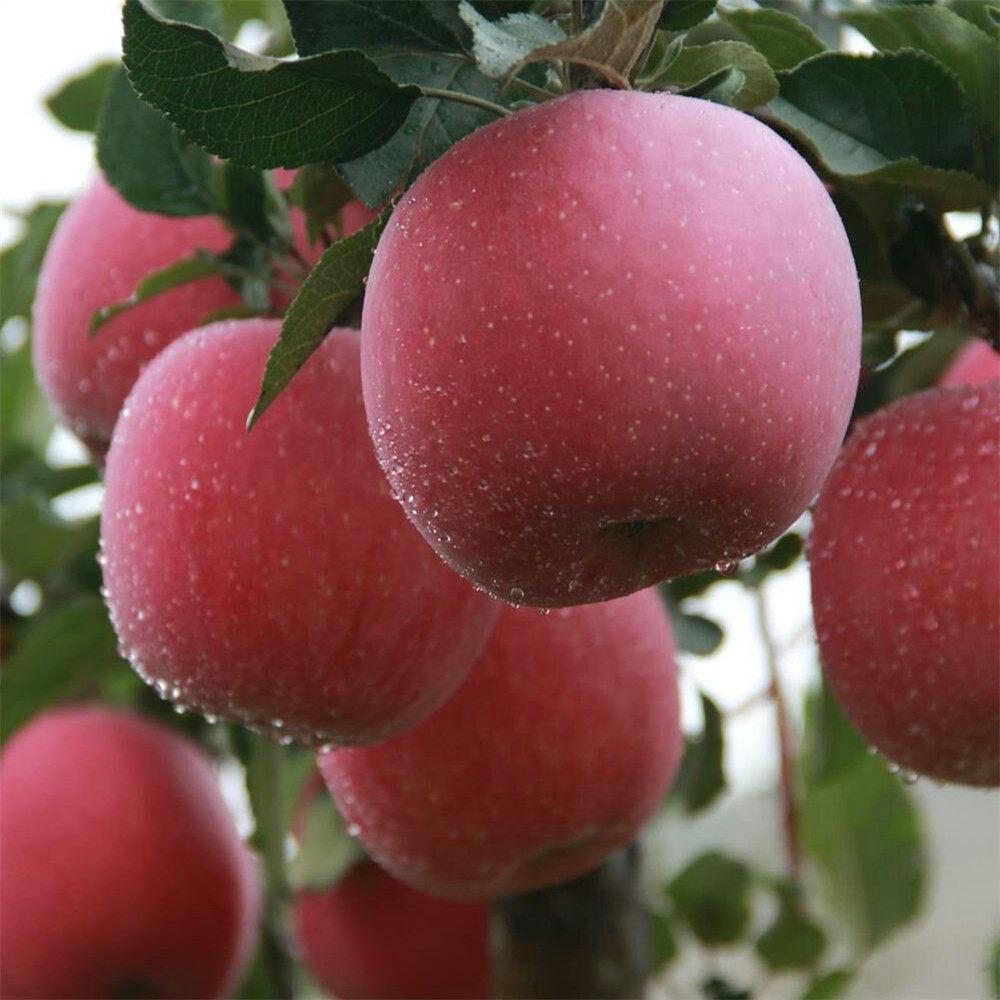apple: (361, 92, 863, 602), (89, 319, 507, 754), (324, 583, 682, 901), (798, 398, 994, 815)
